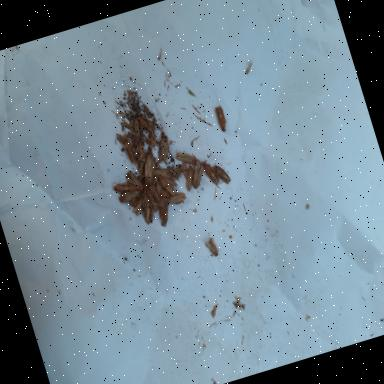pbw: (137, 111, 162, 148), (152, 132, 180, 164), (110, 176, 142, 200), (131, 141, 152, 177), (154, 194, 176, 228), (136, 188, 156, 224), (200, 160, 222, 192), (138, 150, 160, 182), (169, 147, 198, 170), (122, 137, 140, 172), (187, 161, 209, 189), (211, 156, 231, 186), (116, 185, 144, 206), (180, 164, 200, 192), (124, 166, 144, 194), (213, 104, 232, 132), (128, 116, 146, 144), (148, 180, 164, 208), (144, 186, 160, 214), (166, 190, 188, 206), (204, 236, 220, 258), (152, 165, 172, 182), (160, 178, 176, 198), (162, 172, 178, 189), (126, 193, 144, 208), (178, 162, 190, 180)
